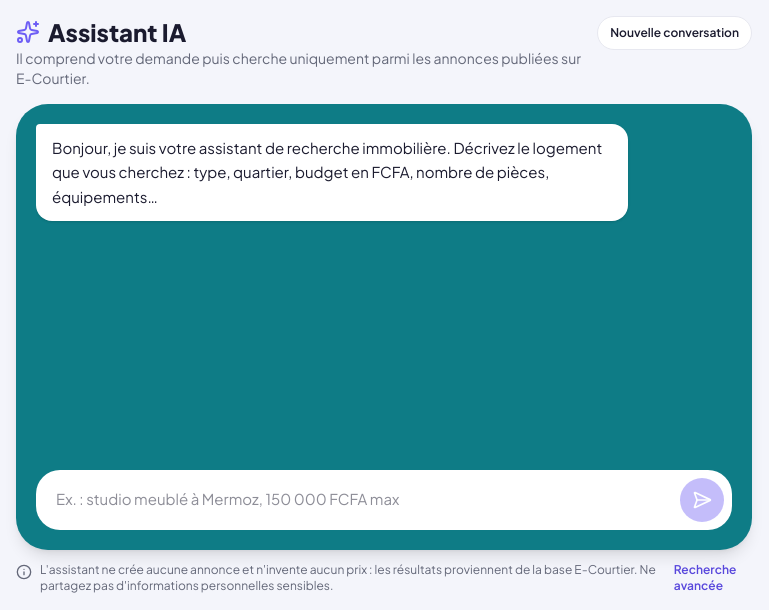
Test case: Assistant › n'attribue à l'IA que les réponses réellement analysées par le fournisseur
Type "villa" into the text box named "Votre message".
click(358, 500); type("villa")  # box x1=44 y1=478 x2=672 y2=522
Then press Enter
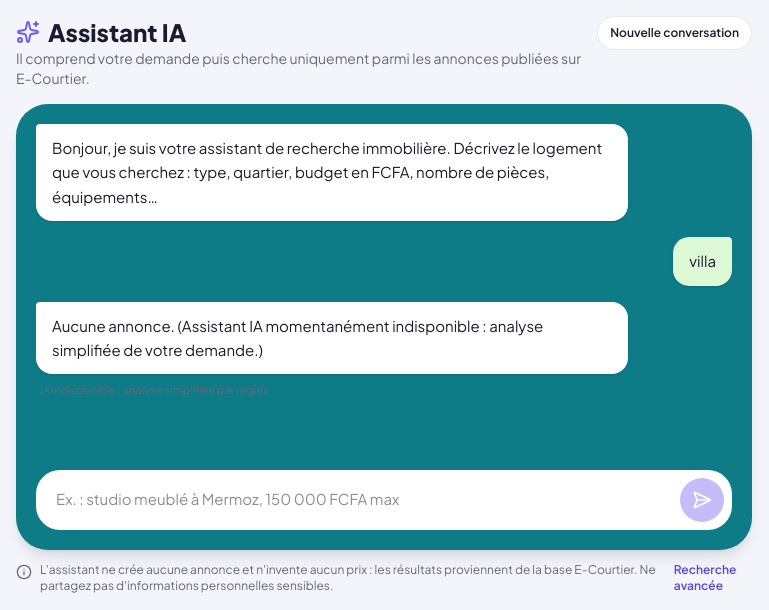
Result: the text "IA indisponible : analyse simplifiée par règles" is shown at x1=36 y1=382 x2=273 y2=399
